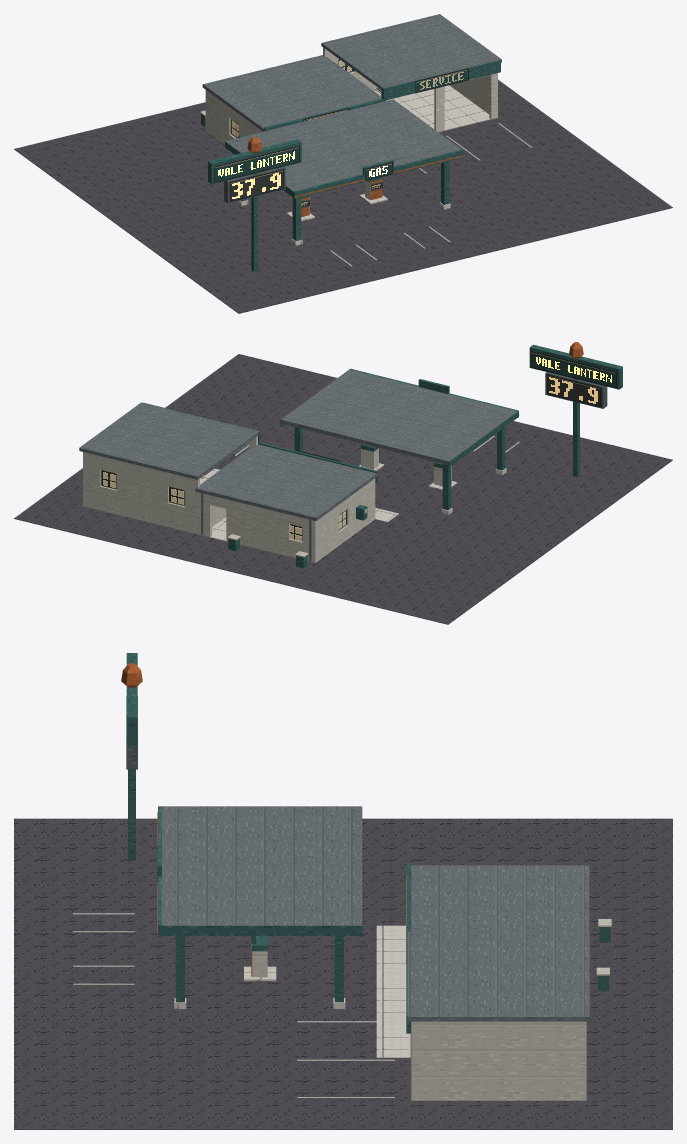
File: vale-lantern-1945-far.glb
The picture shows the model from 3 angles, top to bottom: view 1: azimuth 30°, elevation 25°; view 2: azimuth 150°, elevation 25°; view 3: azimuth 270°, elevation 25°; orthographic projection. The views are drawn at different scales.
Parts seen in each view (by area): view 1: lot, shell, fuel_canopy, interior, roadside_sign, sign_name_street, price_face_street, pump_2; view 2: lot, shell, fuel_canopy, roadside_sign, sign_name_exit, price_face_exit, interior, pump_2; view 3: lot, shell, fuel_canopy, roadside_sign, pump_2.
Part boxes in pixels (left/top/right/bottom): lot: left=14, top=79, right=672, bottom=313; shell: left=202, top=14, right=501, bottom=144; fuel_canopy: left=225, top=99, right=463, bottom=245; interior: left=206, top=85, right=496, bottom=144; roadside_sign: left=208, top=136, right=301, bottom=271; sign_name_street: left=214, top=145, right=299, bottom=183; price_face_street: left=229, top=169, right=284, bottom=202; pump_2: left=359, top=177, right=387, bottom=204; lot: left=14, top=354, right=672, bottom=624; shell: left=79, top=402, right=378, bottom=562; fuel_canopy: left=280, top=368, right=519, bottom=515; roadside_sign: left=529, top=342, right=622, bottom=476; sign_name_exit: left=531, top=351, right=616, bottom=388; price_face_exit: left=547, top=374, right=601, bottom=407; interior: left=83, top=477, right=373, bottom=562; pump_2: left=359, top=444, right=384, bottom=470; lot: left=14, top=818, right=672, bottom=1129; shell: left=406, top=863, right=589, bottom=1100; fuel_canopy: left=157, top=806, right=362, bottom=1009; roadside_sign: left=121, top=653, right=142, bottom=860; pump_2: left=244, top=936, right=276, bottom=981.
Bounding box in the file's own units: 31.45 × 9.19 × 28.2.
Materials: 11 (11 with a texture image).
